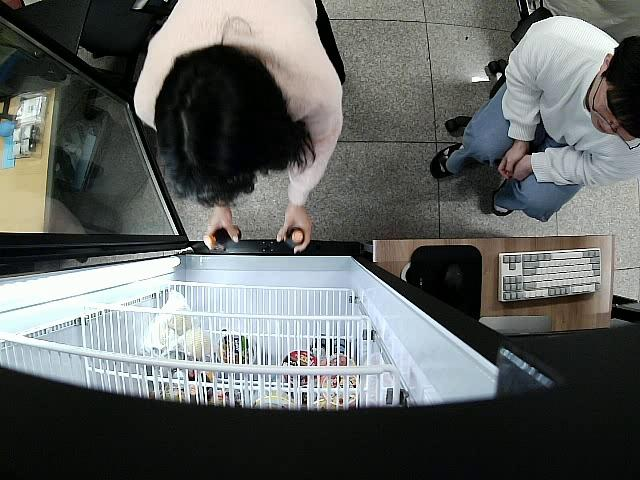00_hand: (278, 211, 313, 254), (205, 207, 240, 246)
17_vita500: (202, 225, 242, 246), (284, 226, 304, 247)
